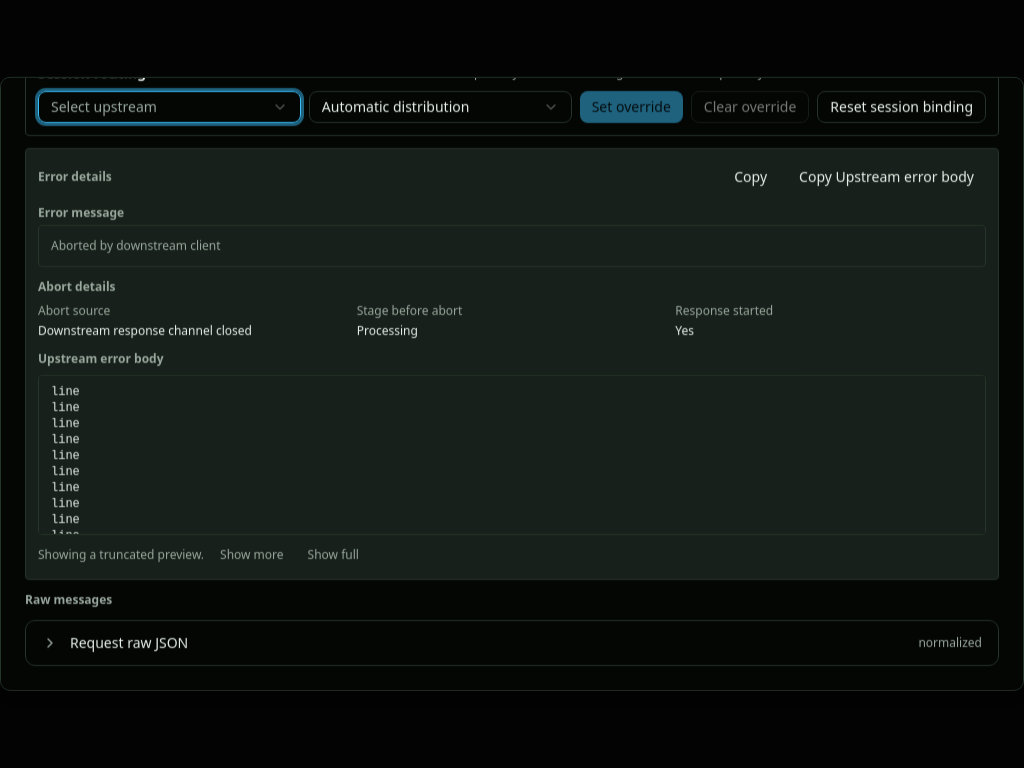
Scenario: AI detail: error and abort › renders the abort details and a bounded upstream body
(page scrolled)
Expected: the text "Abort details" is shown, [38, 277, 116, 294]
Expected: the text "Downstream response channel closed" is shown, [38, 321, 252, 338]
Click the button "Show full" at point(333, 554), box [300, 542, 367, 566]
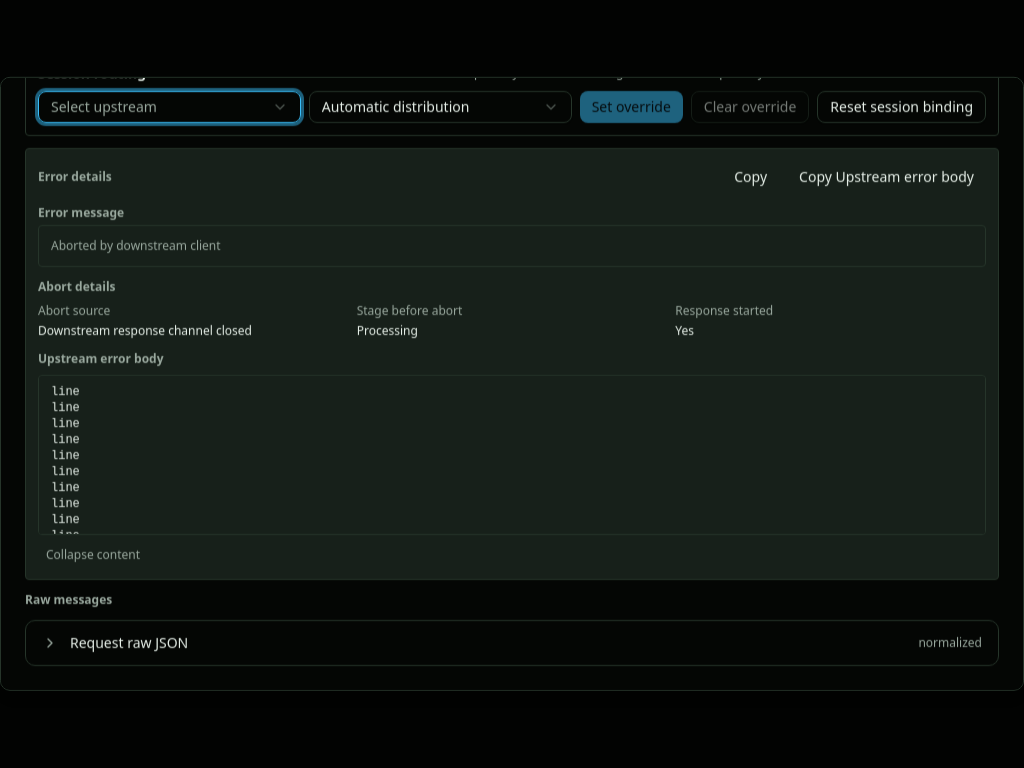
Now the text "Showing a truncated preview." is gone
Click the button "Collapse content" at point(93, 554), box [38, 542, 148, 566]
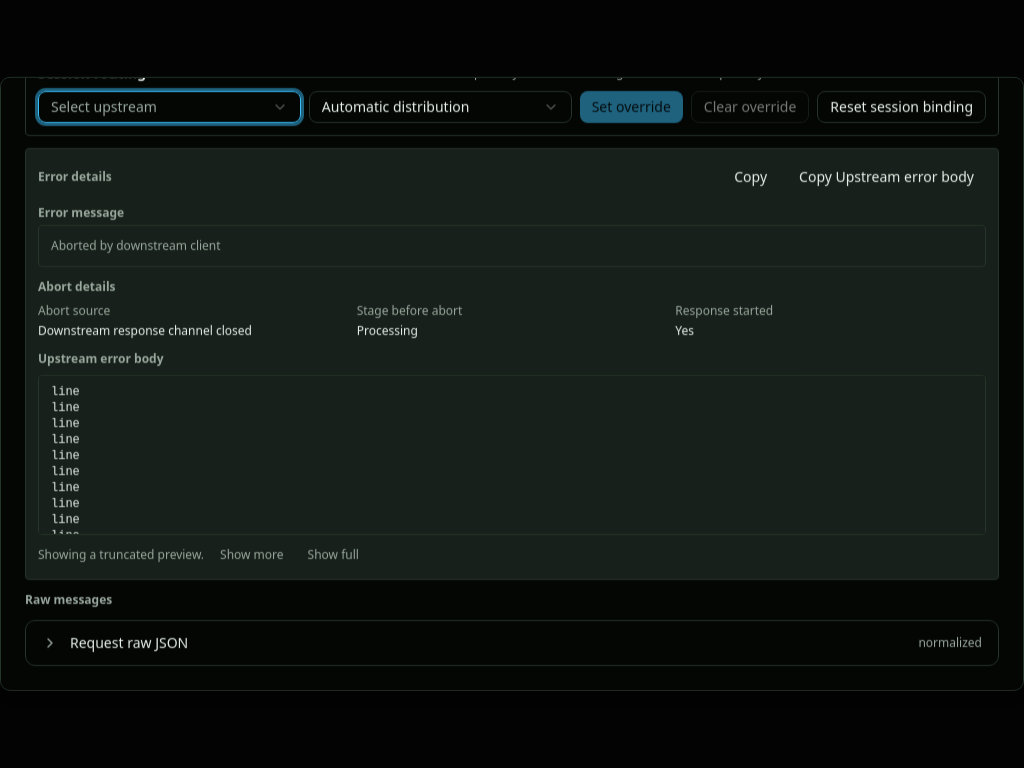
Now the text "Showing a truncated preview." is shown, box [38, 546, 204, 562]
